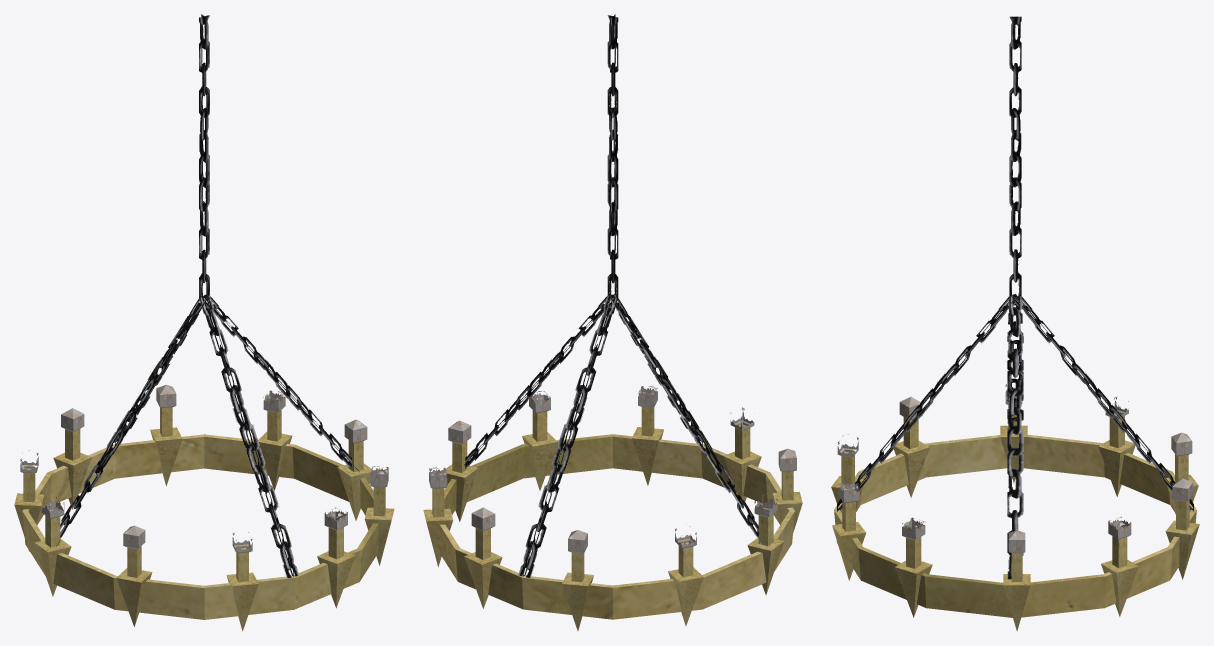
Rendered from Chandelier01.obj.
3 renders of one model, left to right at view 1: azimuth 30°, elevation 25°; view 2: azimuth 150°, elevation 25°; view 3: azimuth 270°, elevation 25°, orthographic.
Parts seen in each view (by area): view 1: Chandelier01; view 2: Chandelier01; view 3: Chandelier01.
Boxes of the visible parts, x1,y1,x2,y2 form: Chandelier01: (14,14,394,631); Chandelier01: (423,14,802,630); Chandelier01: (831,16,1199,631).
Size of the model in its own units: 3.12 by 4.94 by 3.05.
